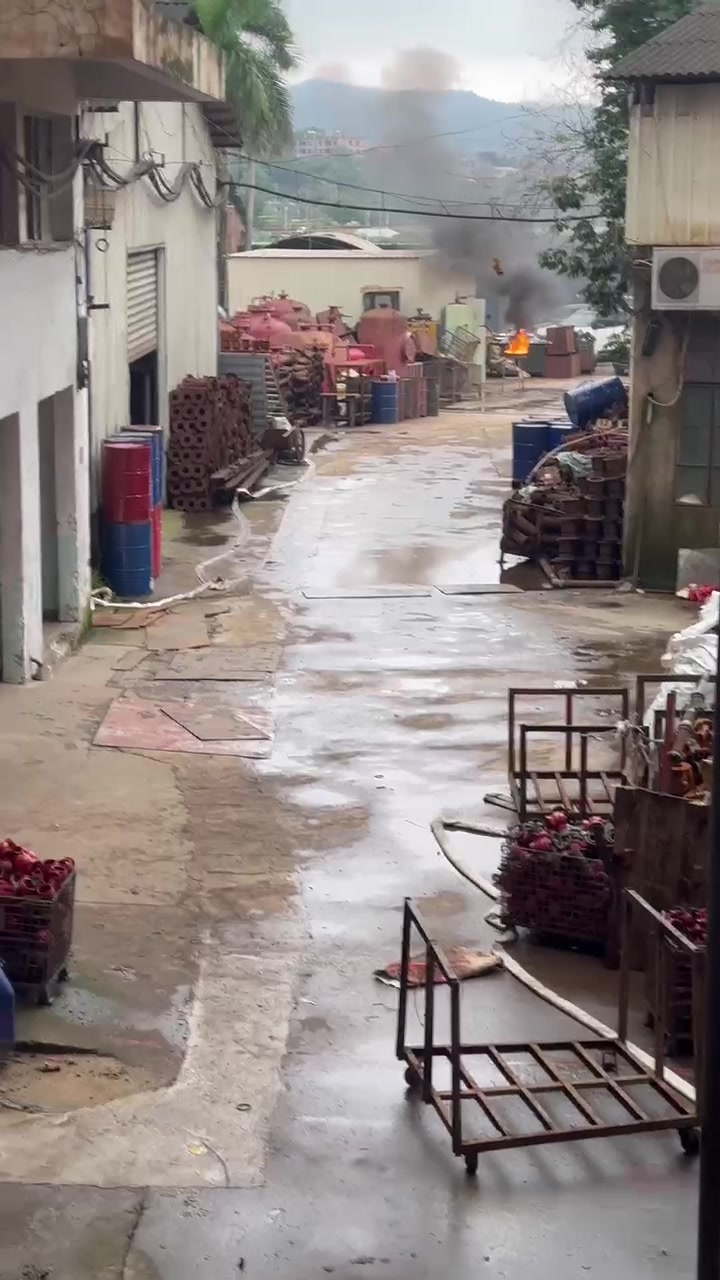fire: (503, 329, 528, 354)
